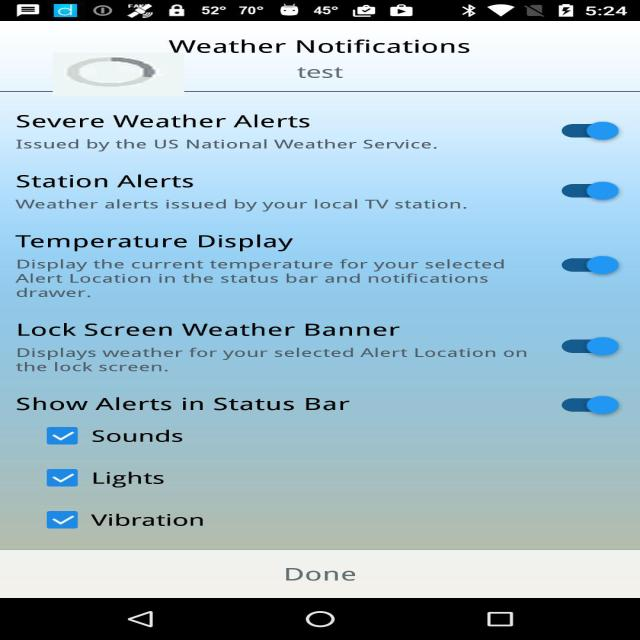misdirection: (53, 52, 184, 96)
